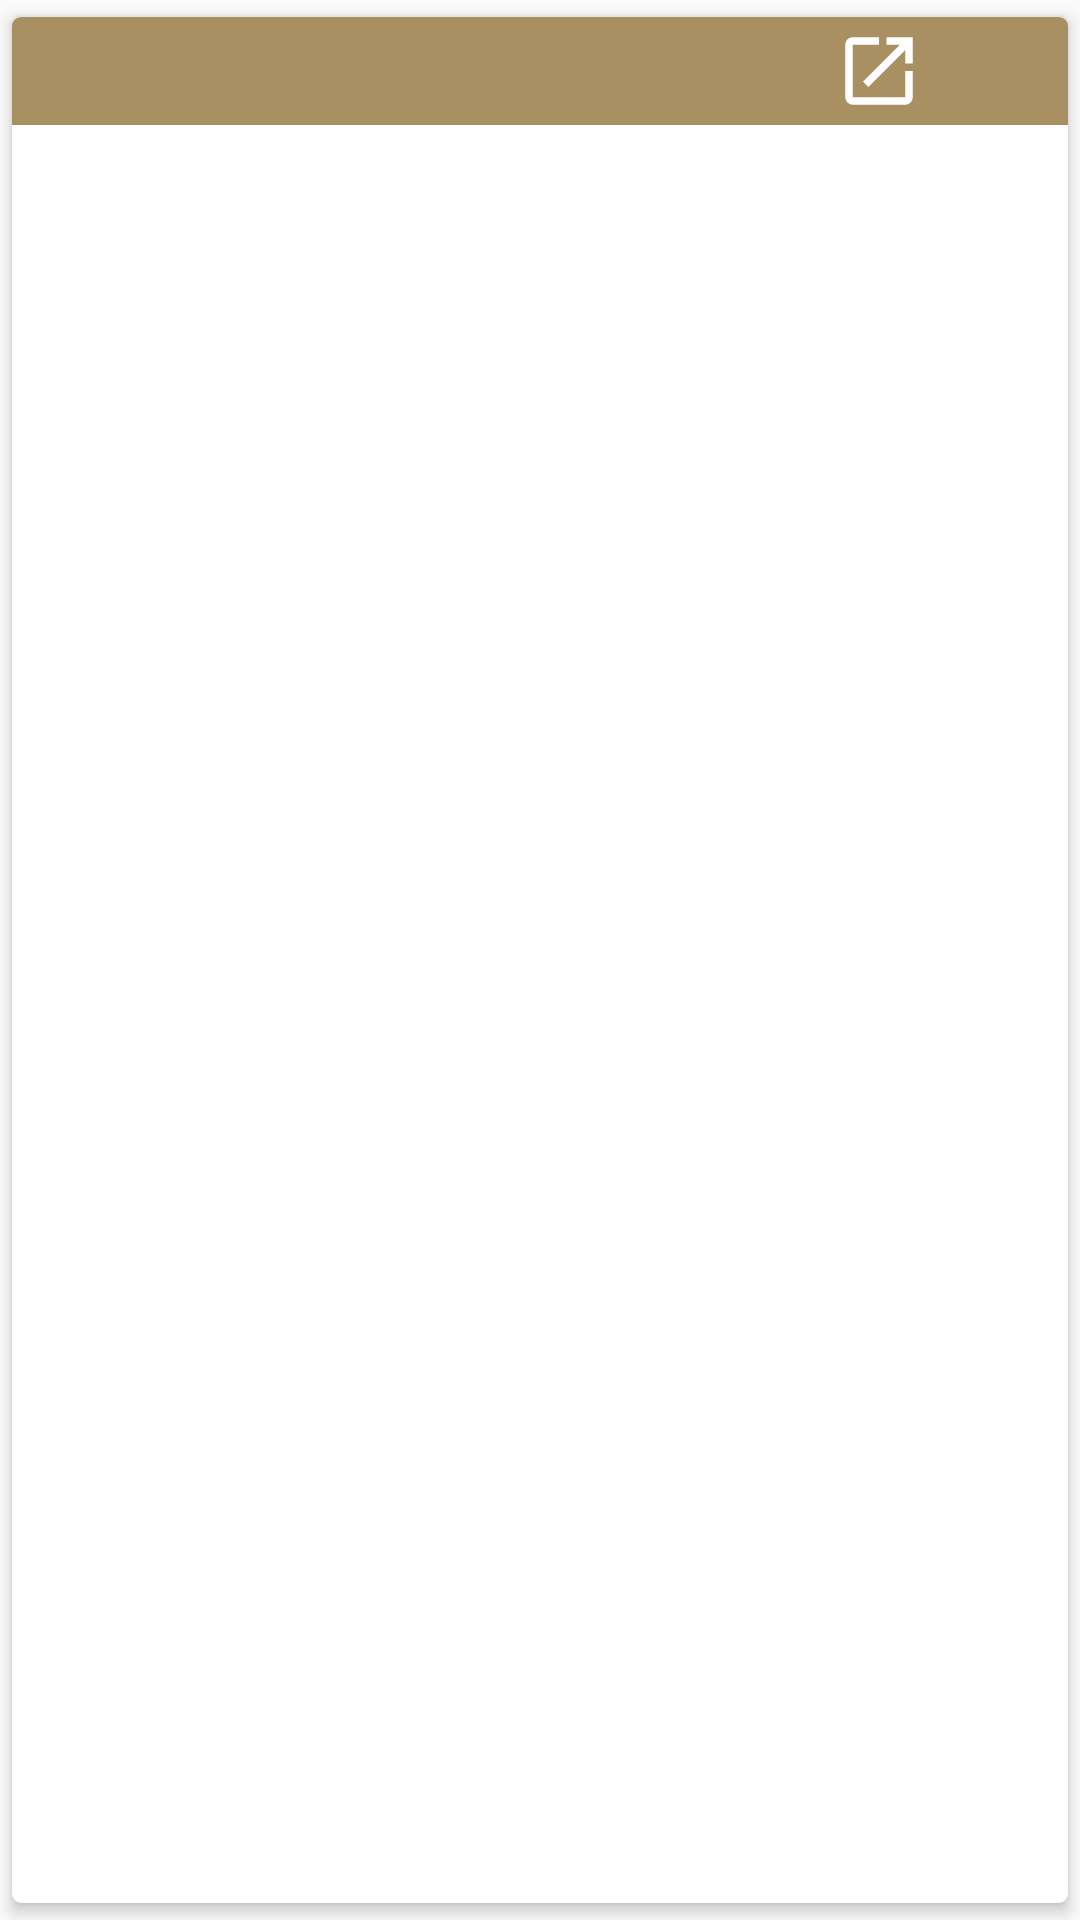

Point at icon controls on the screen. Image size 1080x1920, points as (x,y).
launch: (879,71)
